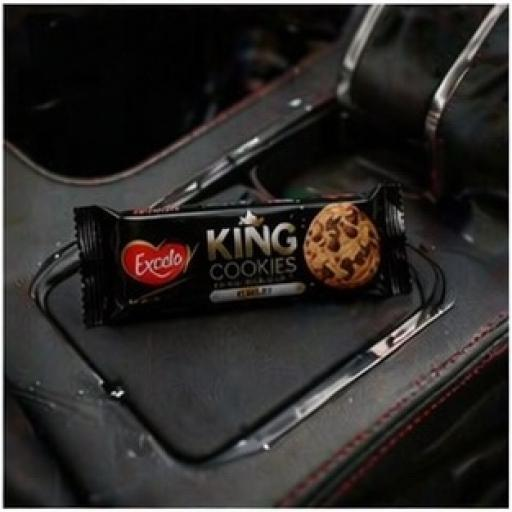king-cooking: (52, 138, 452, 359)
